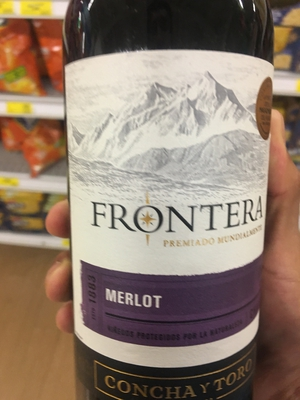frontera merlot: (63, 7, 292, 393)
